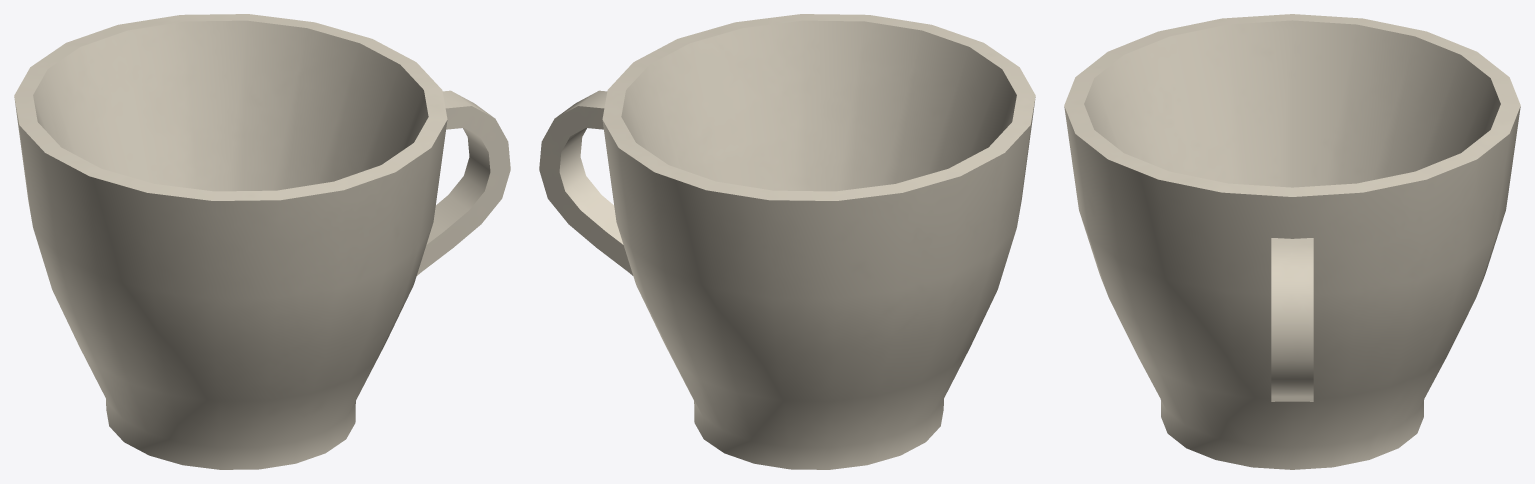
Rendered from CoffeeMug.fbx.
3 views of the same model, side by side, from view 1: azimuth 30°, elevation 25°; view 2: azimuth 150°, elevation 25°; view 3: azimuth 270°, elevation 25° (orthographic).
Parts seen in each view (by area): view 1: Coffee mug; view 2: Coffee mug; view 3: Coffee mug.
Boxes of the visible parts, x1,y1,x2,y2 form: Coffee mug: (14, 14, 510, 469); Coffee mug: (539, 14, 1035, 469); Coffee mug: (1064, 14, 1520, 469).
Bounding box in the file's own units: 12.26 × 7.98 × 10.55.
